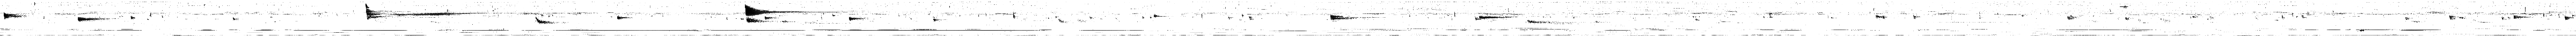meteor: (365, 3, 455, 20), (744, 5, 805, 16), (746, 16, 775, 23), (1329, 13, 1359, 20), (534, 16, 557, 25), (3, 11, 23, 20), (77, 16, 110, 21), (1475, 15, 1505, 20), (848, 16, 864, 21), (1526, 20, 1551, 23), (616, 15, 631, 20), (1153, 13, 1166, 18), (2514, 16, 2532, 20), (764, 16, 777, 20), (1058, 18, 1066, 23), (2564, 15, 2573, 20)
